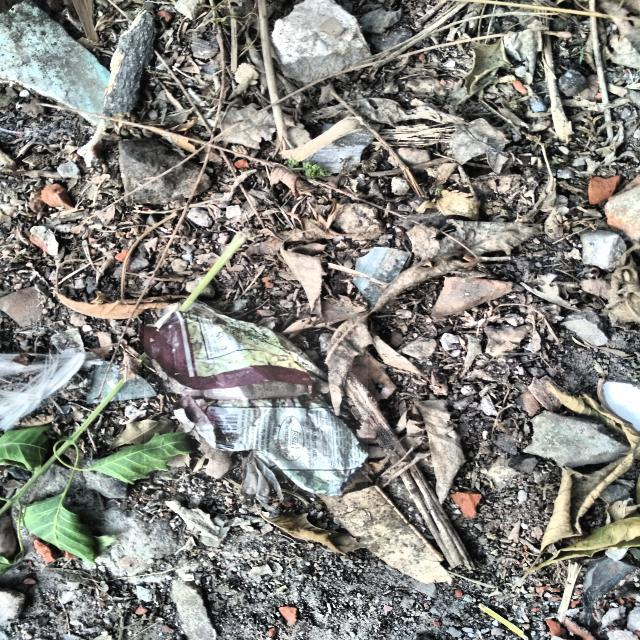anorganik: (144, 301, 368, 500)
